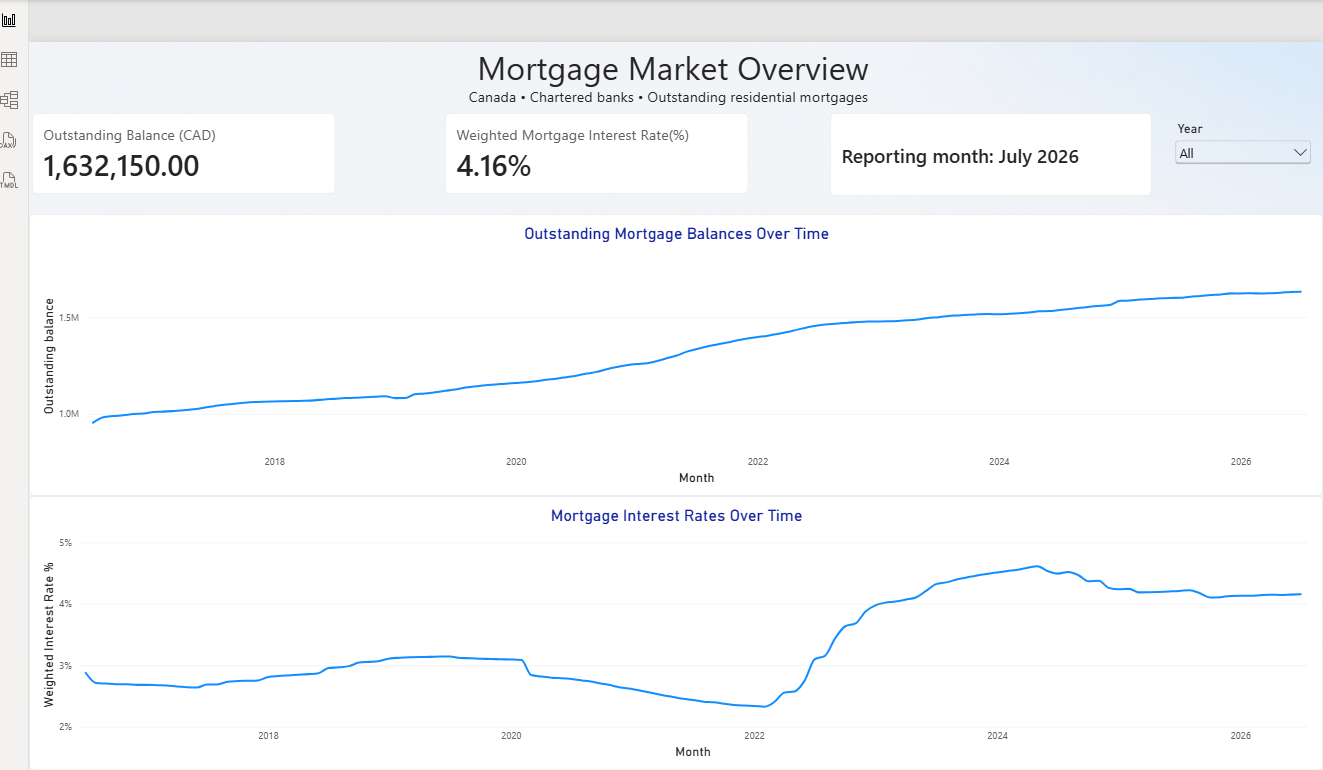

This screenshot's page, from the dashboard's own definition file:
{"tool":"powerbi","page":{"name":"Mortgage Market Overview","canvas":[1920,1080],"ordinal":0},"visuals":[{"type":"cardVisual","title":"Outstanding Mortgage Balance","fields":{"Data":["MortgageMarket.Mortgage Money Still Owed CAD Million"]},"box":[4.5,105.3,450,120],"z":0},{"type":"lineChart","title":"Outstanding Mortgage Balances Over Time ","fields":{"Category":["MortgageMarket.REF_DATE"],"Y":["MortgageMarket.Mortgage Money Still Owed CAD Million"]},"box":[0,255.2,1920,418.4],"z":1000},{"type":"slicer","fields":{"Values":["Calendar.Year"]},"box":[1696,117.2,210.7,80.1],"z":2000},{"type":"cardVisual","fields":{"Data":["MortgageMarket.Outstanding Mortgage Interest Rate"]},"box":[617.2,105.3,450,120],"z":3000},{"type":"lineChart","title":"Mortgage Interest Rates Over Time","fields":{"Category":["MortgageMarket.REF_DATE"],"Y":["MortgageMarket.Outstanding Mortgage Interest Rate"]},"box":[0,673.6,1920,406.6],"z":4000},{"type":"textbox","box":[4.5,4.5,1915.5,69.7],"z":4001},{"type":"textbox","box":[4.5,65,1888.8,40.1],"z":4002},{"type":"cardVisual","fields":{"Data":["MortgageMarket.Reporting Month"]},"box":[1188.5,105.3,477.8,123.2],"z":4003}]}

Visuals, with their boxes on the page's 1920x1080 design canvas (x1, y1, x2, y2). These are canvas units, not pixel positions in the 1323x770 screenshot, which may show the page scaled, cropped or inside an application window:
"Outstanding Mortgage Balance" cardVisual: 4 105 454 225
"Outstanding Mortgage Balances Over Time " lineChart: 0 255 1920 674
slicer - Calendar.Year: 1696 117 1907 197
cardVisual - MortgageMarket.Outstanding Mortgage Interest Rate: 617 105 1067 225
"Mortgage Interest Rates Over Time" lineChart: 0 674 1920 1080
textbox: 4 4 1920 74
textbox: 4 65 1893 105
cardVisual - MortgageMarket.Reporting Month: 1188 105 1666 228
